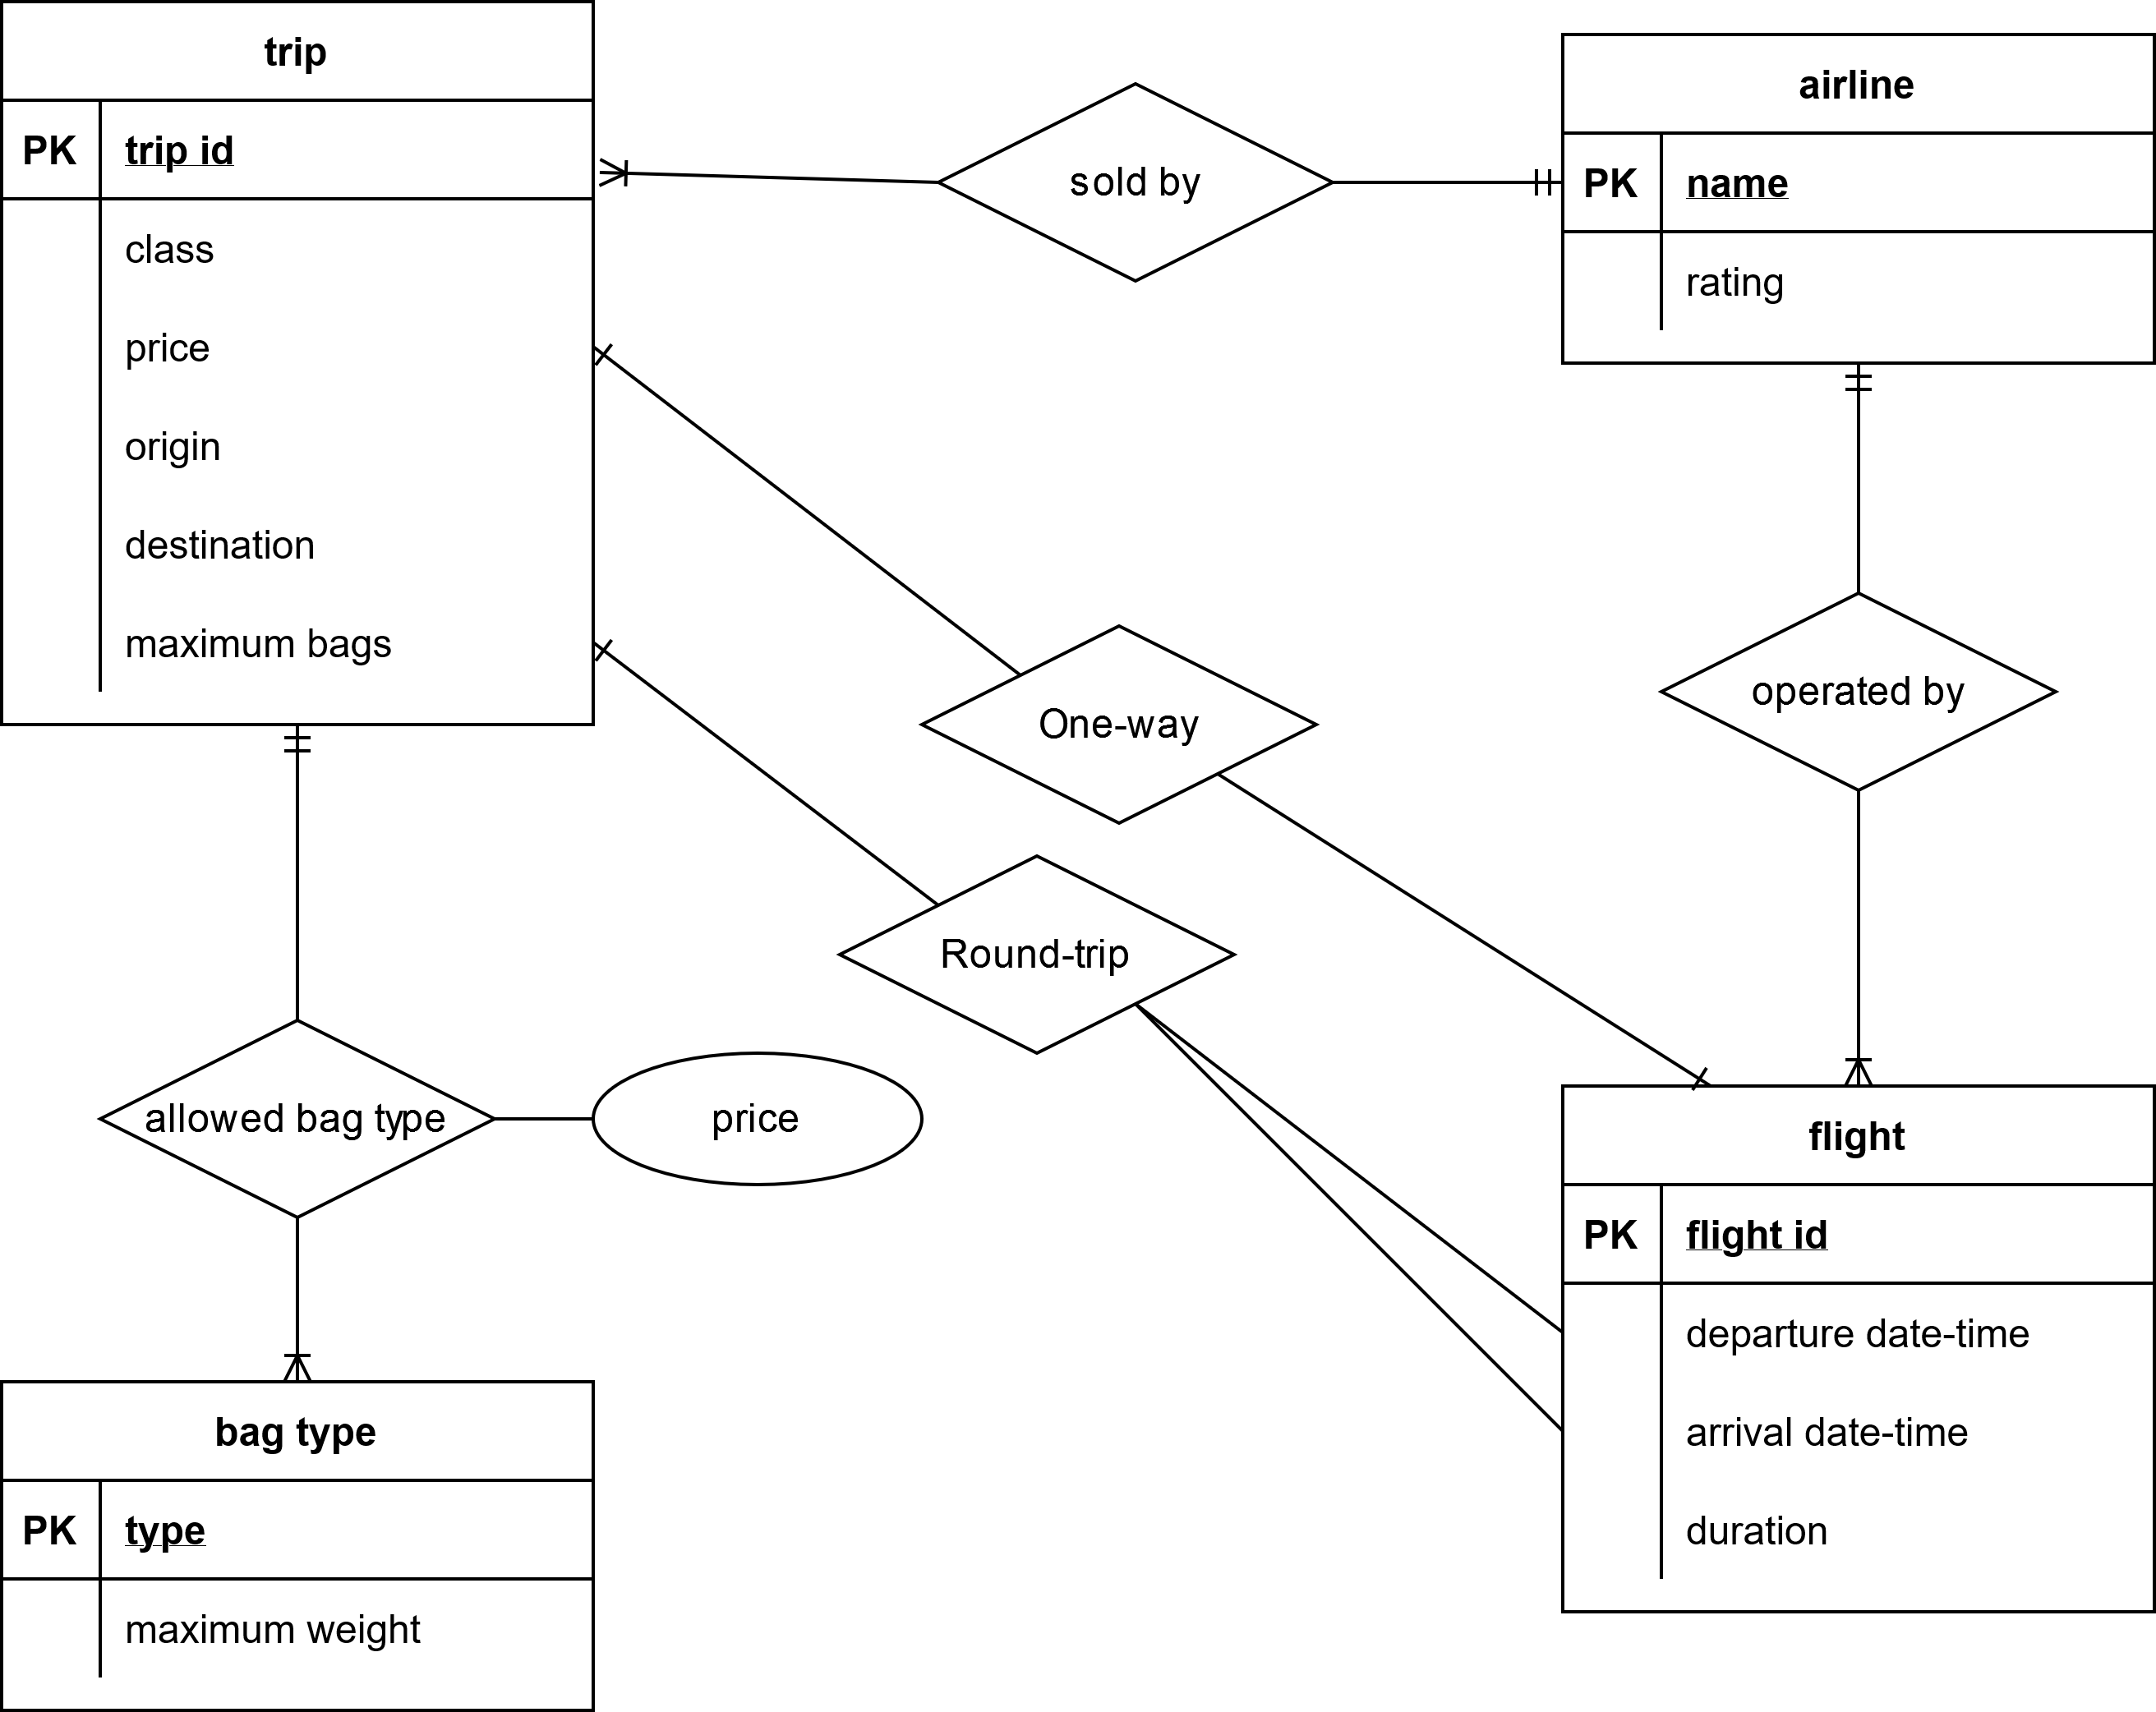entity: (0, 2, 597, 723), (1557, 1080, 2156, 1612), (1563, 32, 2156, 368), (0, 1379, 595, 1712)
many: (593, 144, 653, 200), (269, 1327, 327, 1383), (1832, 1040, 1886, 1085)
one: (1508, 156, 1564, 214), (1664, 1045, 1724, 1092), (1827, 362, 1888, 403), (275, 725, 331, 768), (593, 326, 625, 389), (590, 635, 630, 677)
rel: (919, 621, 1316, 831), (1657, 590, 2063, 793), (101, 1010, 493, 1218), (938, 81, 1332, 285), (840, 849, 1234, 1050)
rel_attr: (588, 1049, 922, 1187)
